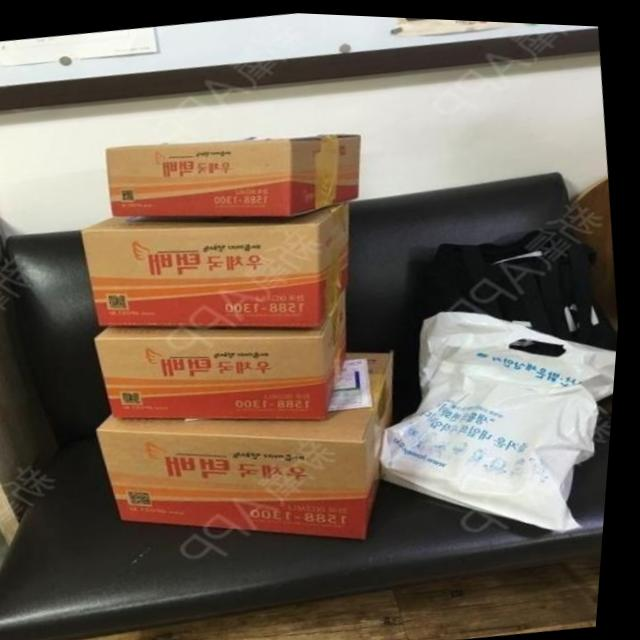box: (103, 346, 399, 536), (86, 197, 354, 324), (100, 287, 352, 417), (108, 130, 363, 215)
